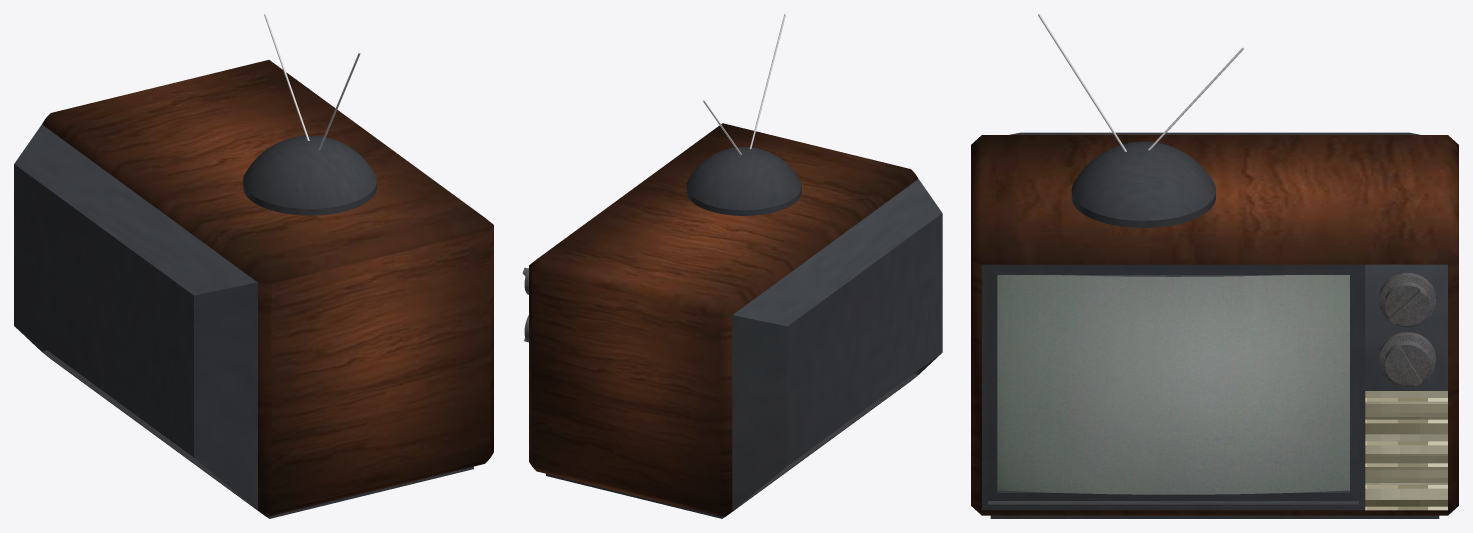
The picture shows the model from 3 angles, left to right: view 1: azimuth 30°, elevation 25°; view 2: azimuth 150°, elevation 25°; view 3: azimuth 270°, elevation 25°; orthographic projection. The views are drawn at different scales.
Visible parts, largest first — view 1: ChamferBox001, OilTank001; view 2: ChamferBox001, OilTank001; view 3: ChamferBox001, OilTank001, Cylinder002, Cylinder001.
Boxes of the visible parts, bbox=[...] form: ChamferBox001: bbox=[14, 60, 493, 518]; OilTank001: bbox=[243, 135, 376, 215]; ChamferBox001: bbox=[529, 123, 942, 518]; OilTank001: bbox=[686, 147, 801, 215]; ChamferBox001: bbox=[971, 132, 1458, 518]; OilTank001: bbox=[1071, 141, 1215, 227]; Cylinder002: bbox=[1379, 332, 1435, 386]; Cylinder001: bbox=[1379, 273, 1435, 327].
Size of the model in its own units: 82.79 by 112 by 108.
6 materials, 5 textured.
